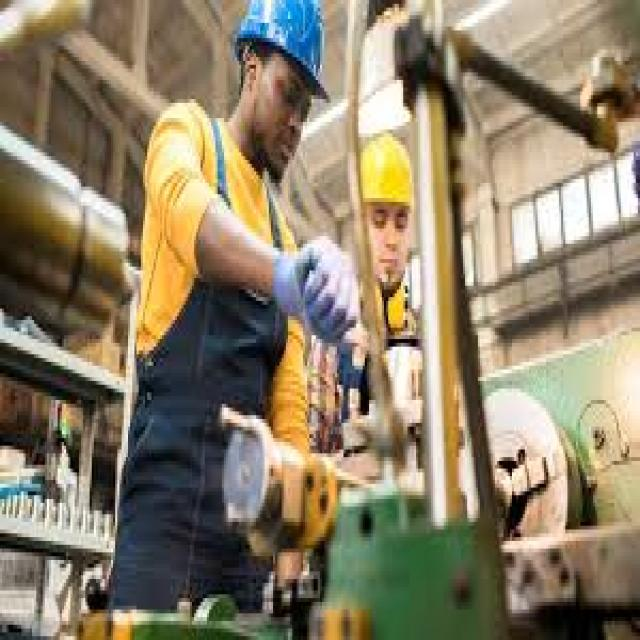Reflective-Jacket: (124, 106, 318, 388)
Safety-Helmet: (228, 0, 337, 107), (352, 122, 420, 217)
